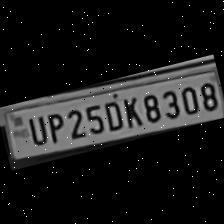0: (174, 80, 200, 117)
2: (61, 104, 88, 141)
3: (156, 84, 182, 120)
5: (80, 100, 106, 136)
8: (136, 88, 163, 125), (194, 76, 220, 113)
D: (98, 96, 124, 132)
K: (116, 92, 142, 130)
P: (40, 107, 67, 144)
U: (22, 112, 50, 146)
